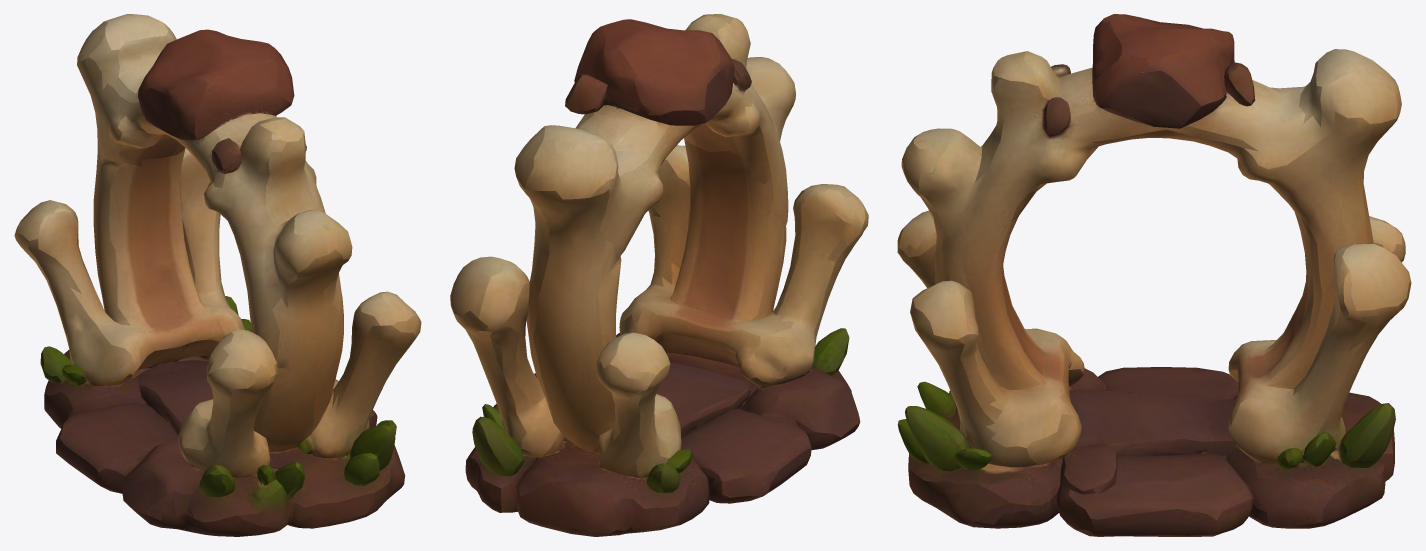
The model's file is lg-boss-arena-spikes.glb.
3 renders of one model, left to right at view 1: azimuth 30°, elevation 25°; view 2: azimuth 150°, elevation 25°; view 3: azimuth 270°, elevation 25°, orthographic. The views are drawn at different scales.
Visible parts, largest first — view 1: geometry_0; view 2: geometry_0; view 3: geometry_0.
Part boxes in pixels (<box>): geometry_0: <box>14,14,421,536</box>; geometry_0: <box>450,14,868,536</box>; geometry_0: <box>897,14,1411,536</box>.
Bounding box in the file's own units: 0.6757 × 0.9658 × 1.
Materials: 1 (1 with a texture image).
